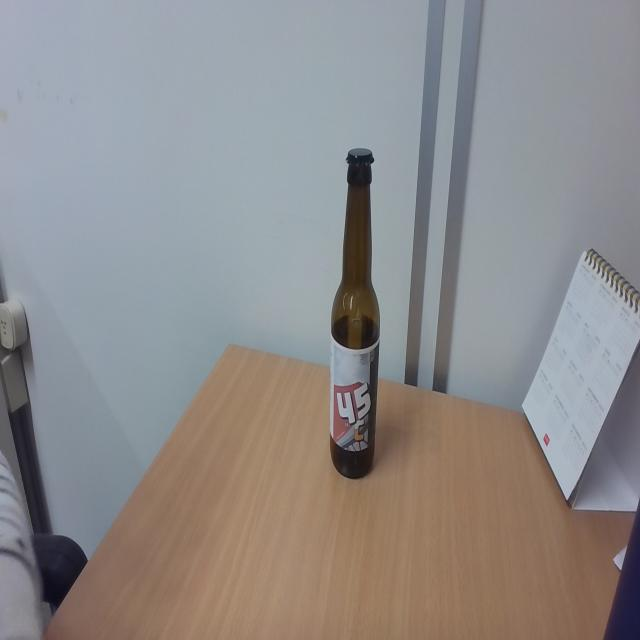Bottle: (330, 147, 381, 478)
Cap: (341, 146, 378, 170)
Label: (330, 346, 378, 449)
